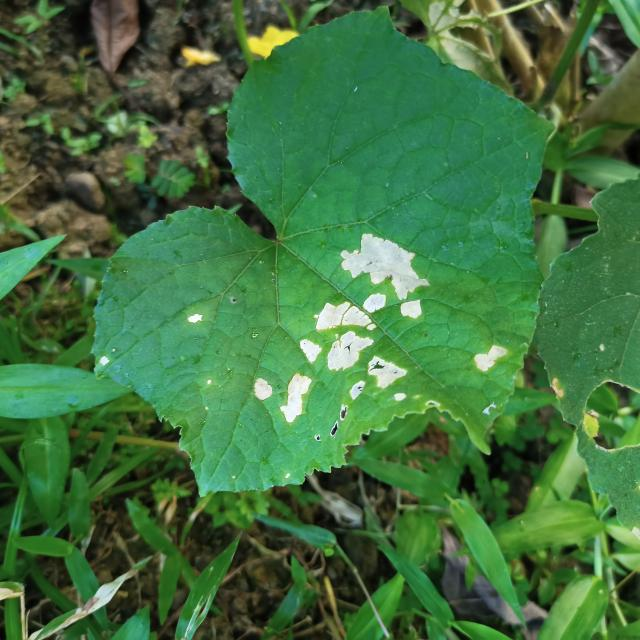disease_cucumber: (244, 231, 436, 425), (464, 336, 511, 388), (178, 307, 207, 342)
